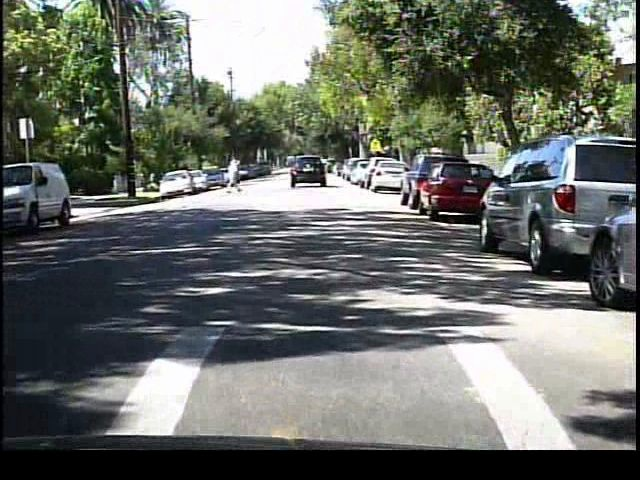person: (222, 152, 244, 194)
